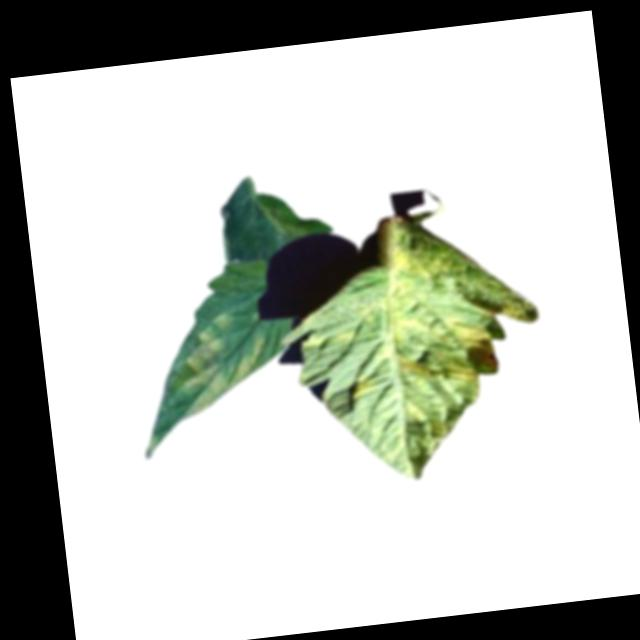Leaf_Mold: (379, 207, 555, 464), (171, 308, 273, 420), (348, 376, 379, 404)
